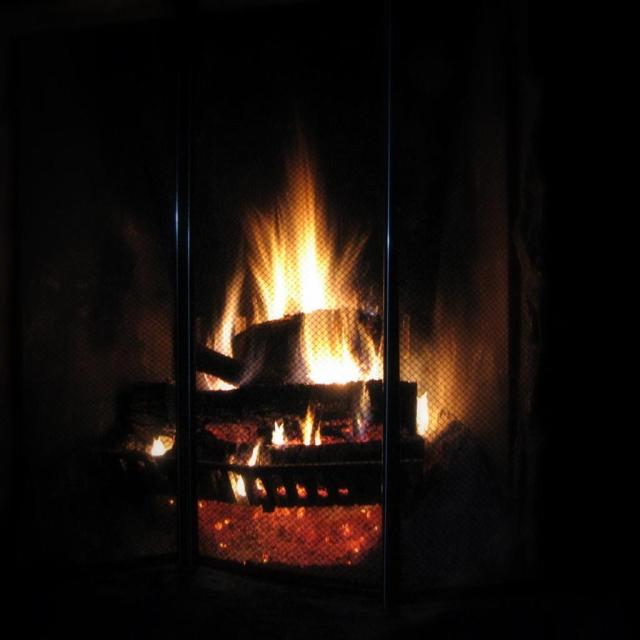Fire: (192, 154, 382, 454)
